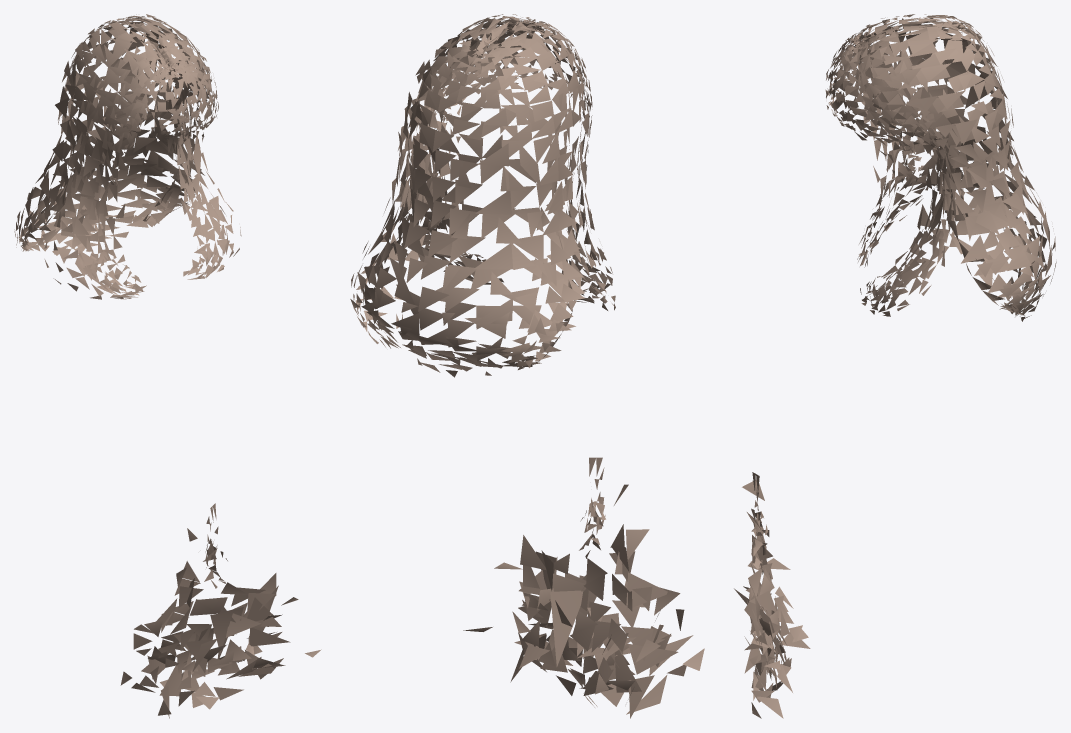
The model's file is female_hair_07_lod1.glb.
3 renders of one model, left to right at view 1: azimuth 30°, elevation 25°; view 2: azimuth 150°, elevation 25°; view 3: azimuth 270°, elevation 25°, orthographic. The views are drawn at different scales.
Visible parts, largest first — view 1: female-hair-07; view 2: female-hair-07; view 3: female-hair-07.
Boxes of the visible parts, bbox=[...] form: female-hair-07: bbox=[14, 14, 321, 718]; female-hair-07: bbox=[350, 14, 704, 718]; female-hair-07: bbox=[734, 14, 1056, 718].
Size of the model in its own units: 0.2903 by 0.8666 by 0.3731.
